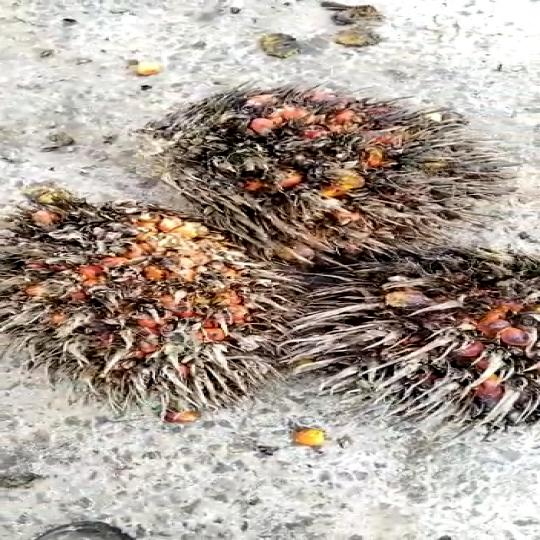terlalu masak: (0, 189, 301, 411), (130, 90, 540, 250), (272, 245, 540, 428)
